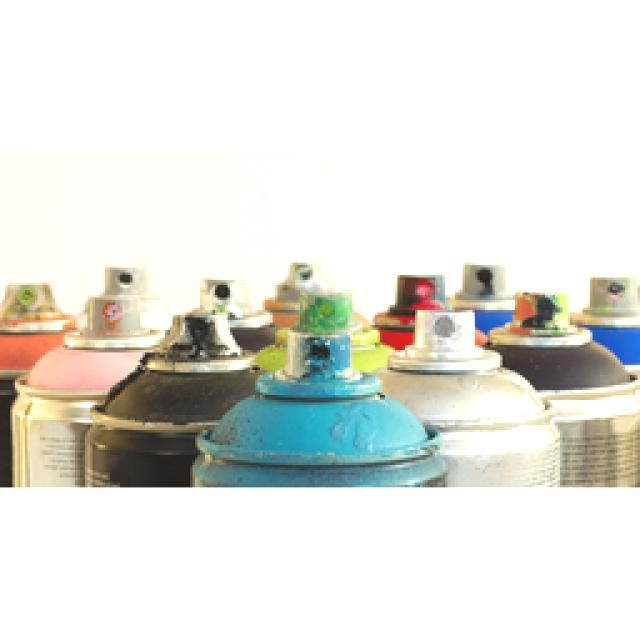B3: (497, 286, 617, 425)
